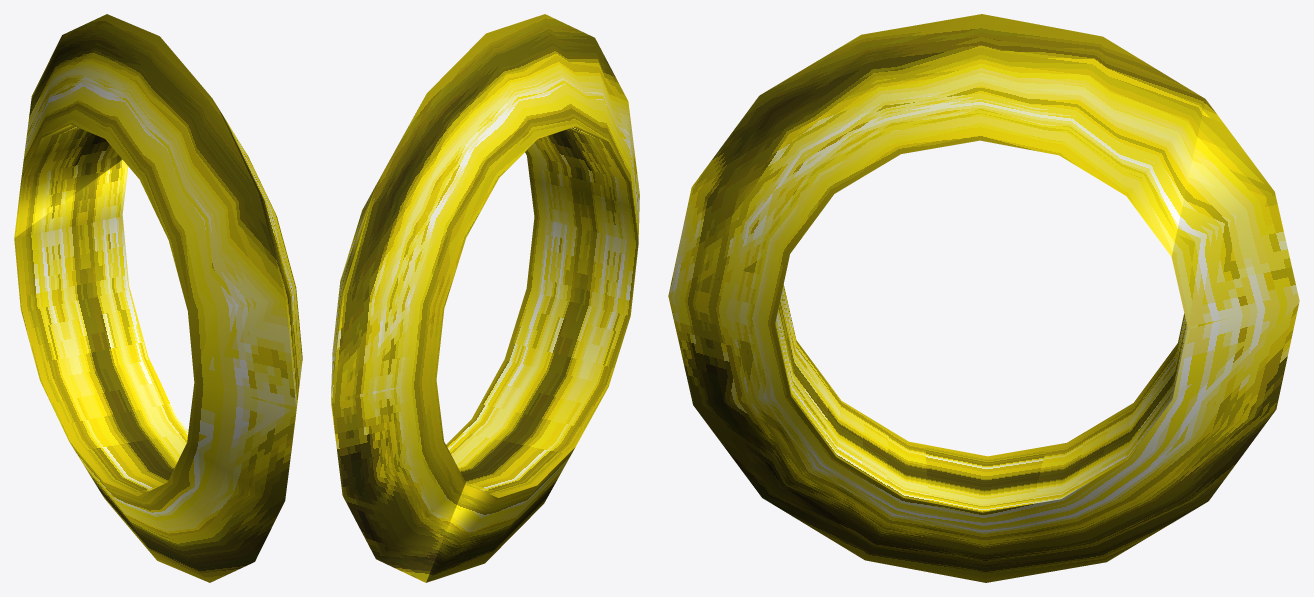
Rendered from ring.glb.
3 renders of one model, left to right at view 1: azimuth 30°, elevation 25°; view 2: azimuth 150°, elevation 25°; view 3: azimuth 270°, elevation 25°, orthographic. The views are drawn at different scales.
Parts seen in each view (by area): view 1: DrawCall_0757_PIVOT; view 2: DrawCall_0757_PIVOT; view 3: DrawCall_0757_PIVOT.
Part boxes in pixels (<box>): DrawCall_0757_PIVOT: <box>14,14,302,582</box>; DrawCall_0757_PIVOT: <box>331,14,639,582</box>; DrawCall_0757_PIVOT: <box>668,14,1299,582</box>.
Size of the model in its own units: 0.0324 by 0.14 by 0.1407.
Materials: 1 (1 with a texture image).
